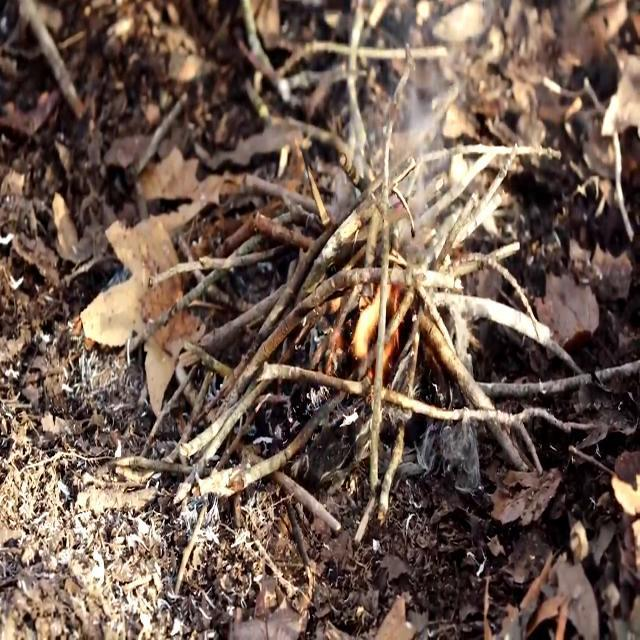Fire: (332, 262, 390, 378)
Smoke: (362, 76, 439, 258)
